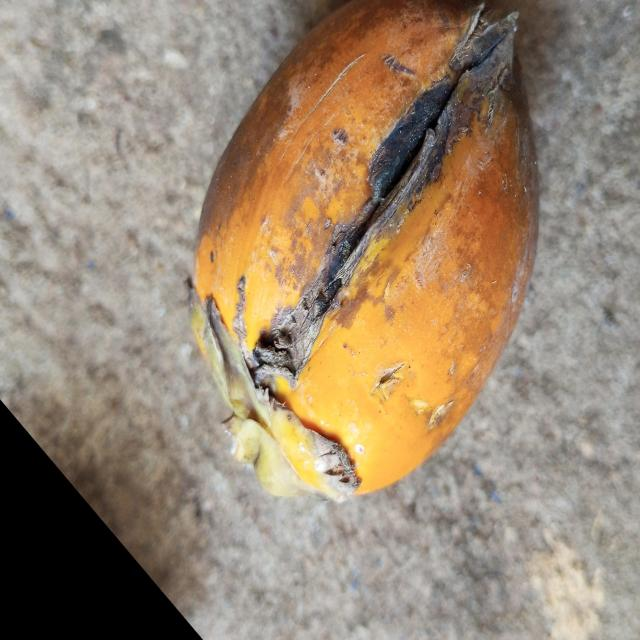damaged: (193, 0, 541, 504)
